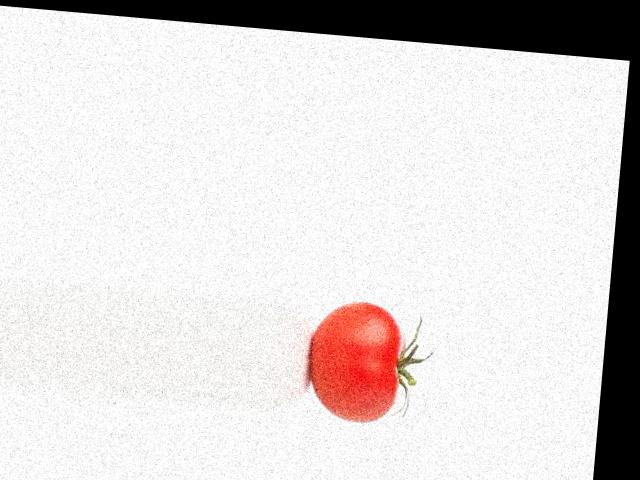tomato: (304, 297, 405, 424)
